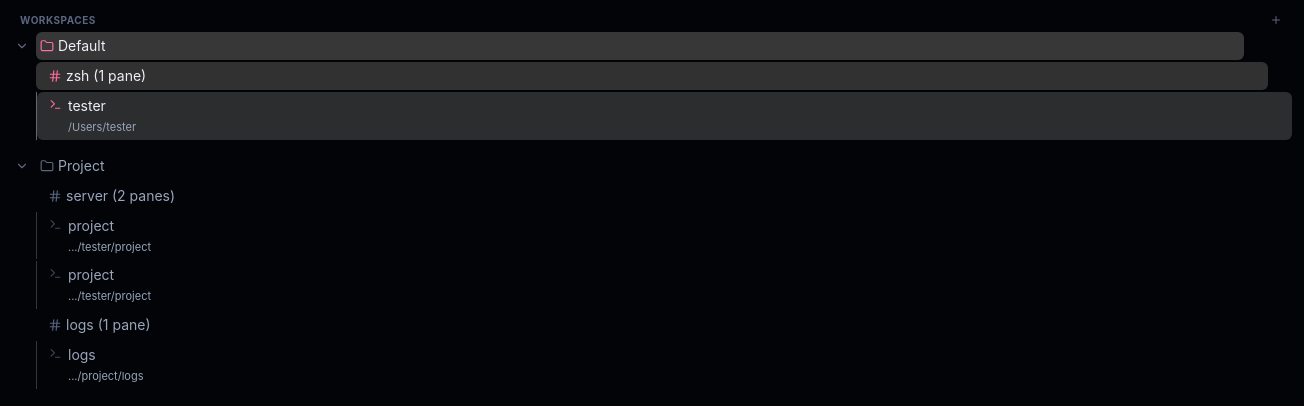
Scenario: WorkspacesView › keeps other workspaces expanded when one workspace is collapsed
the user collapses only the Project workspace.
Click the button named "Collapse Project" at [22, 166], box 12,156 -> 32,176
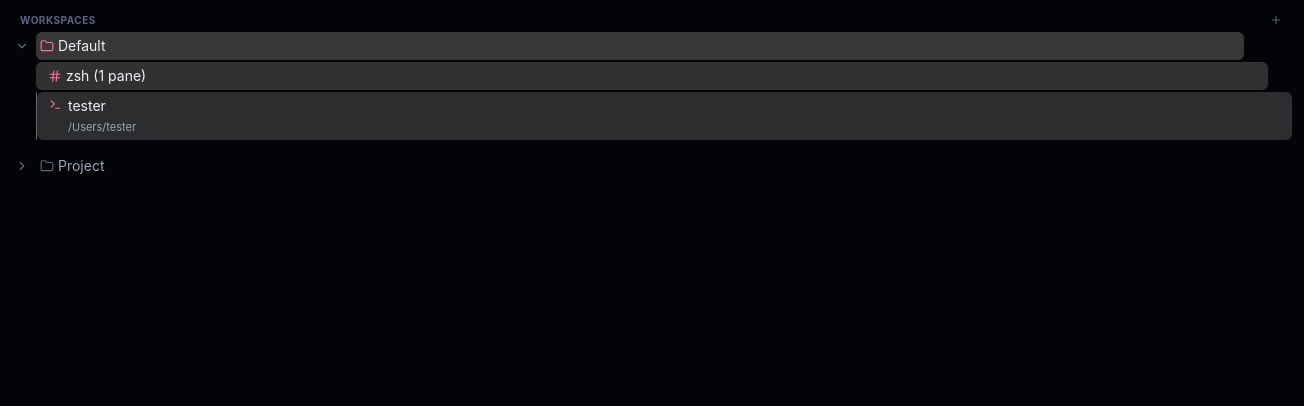
Expected: the button "zsh (1 pane)" is shown, 36,62 -> 1268,90
Result: the button "server (2 panes)" is gone
Result: the button "logs (1 pane)" is gone
